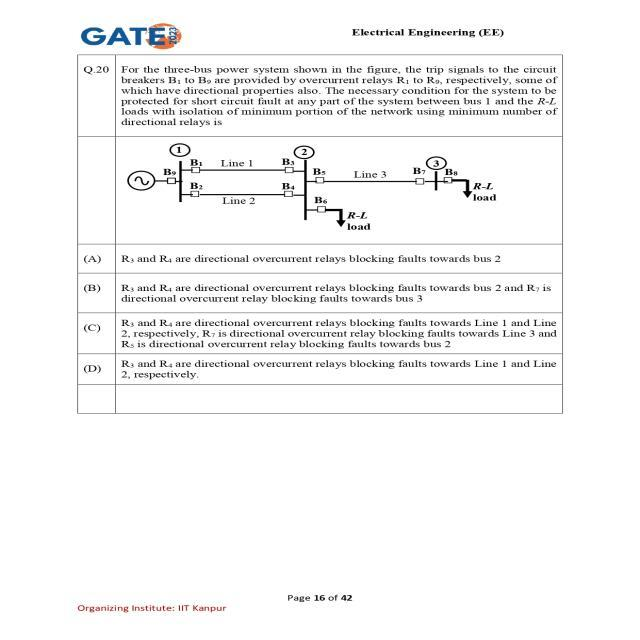Answer_Block: (78, 247, 557, 385)
Question_Answer_Block: (78, 58, 558, 412)
Question_Block: (81, 58, 554, 242)
Question_Paper_Area: (78, 56, 560, 413)
